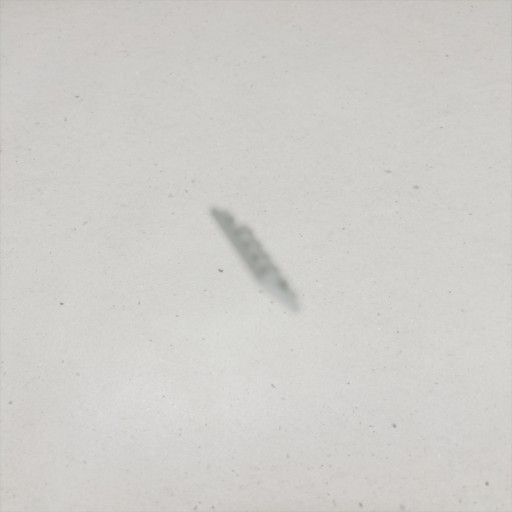lego: (207, 204, 304, 316)
